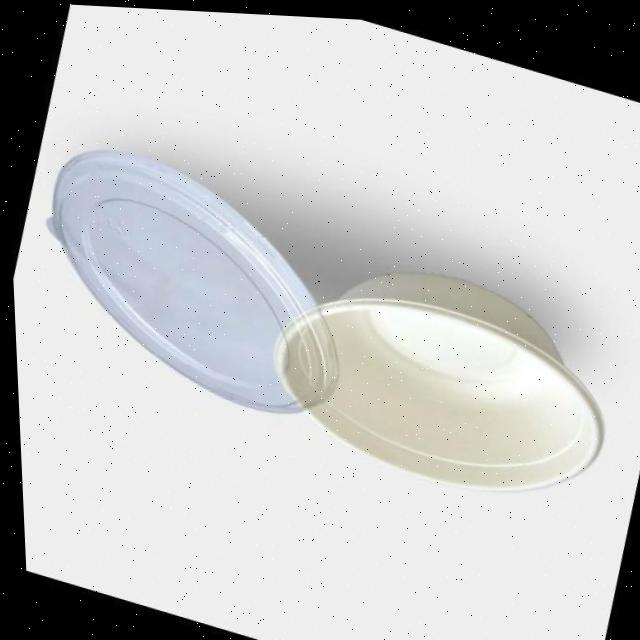disposable: (274, 251, 614, 521)
